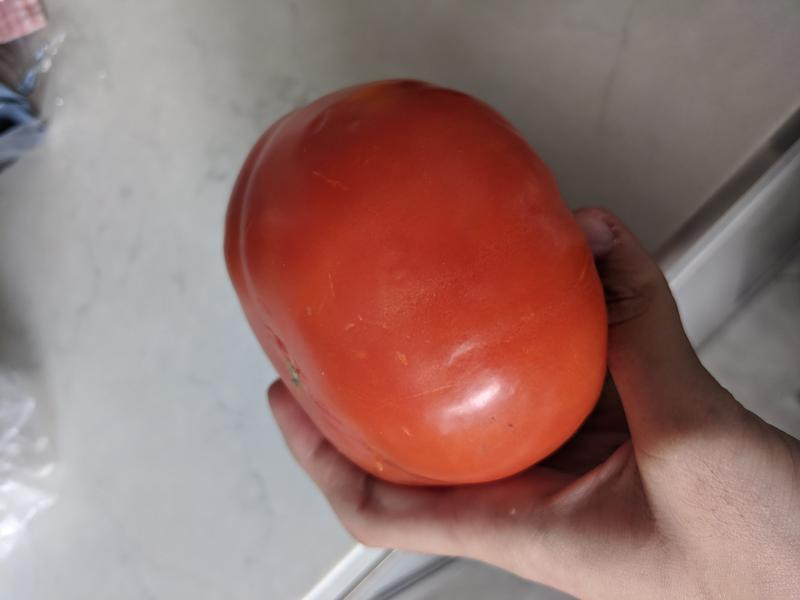tomato: (222, 79, 610, 488)
